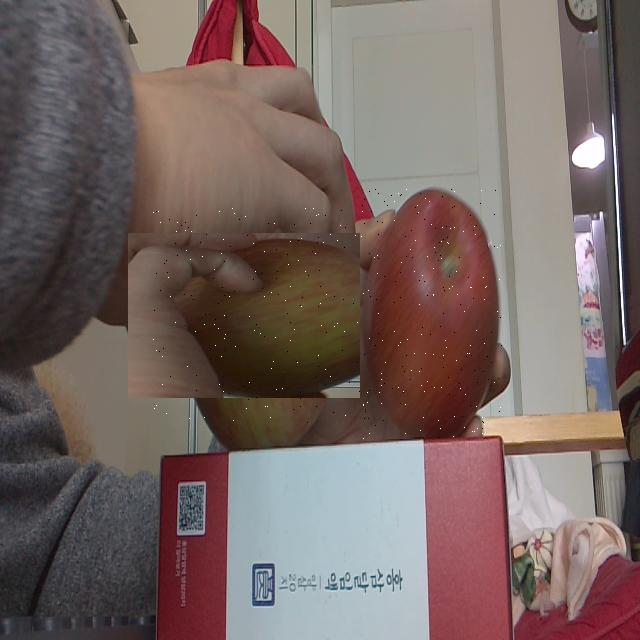apple: (153, 208, 369, 423), (360, 189, 502, 439)
